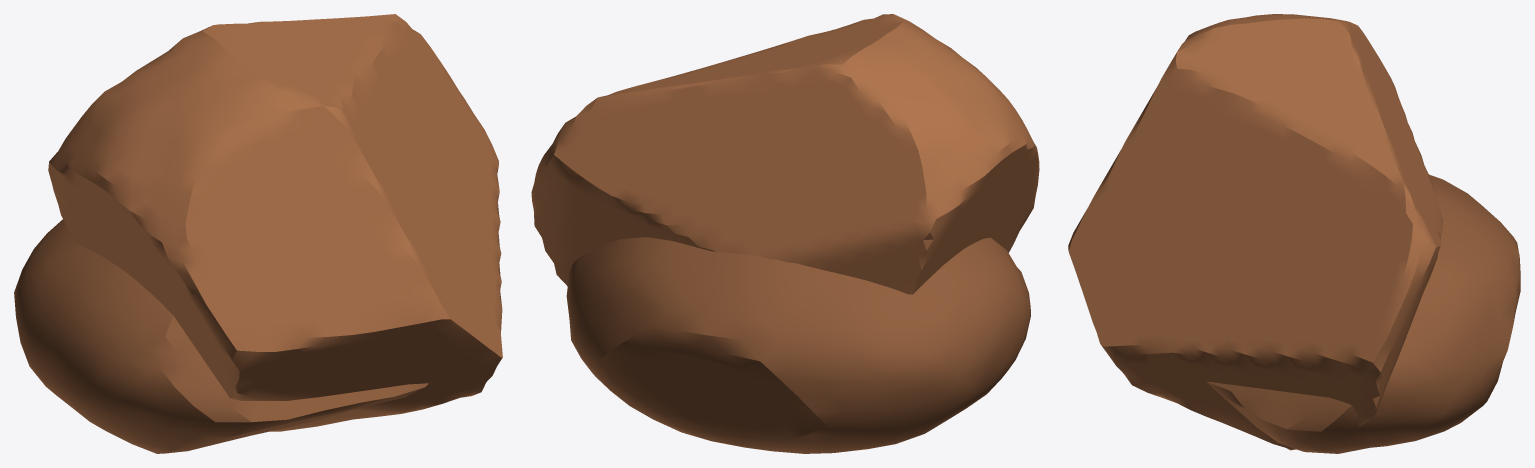
Rendered from Rock.fbx.
3 views of the same model, side by side, from view 1: azimuth 30°, elevation 25°; view 2: azimuth 150°, elevation 25°; view 3: azimuth 270°, elevation 25° (orthographic). The views are drawn at different scales.
Visible parts, largest first — view 1: Rock_Body, Rock_Shade; view 2: Rock_Body, Rock_Shade; view 3: Rock_Body, Rock_Shade.
Part boxes in pixels (bbox=[...]): Rock_Body: bbox=[48, 14, 502, 431]; Rock_Shade: bbox=[14, 219, 428, 453]; Rock_Body: bbox=[531, 14, 1039, 294]; Rock_Shade: bbox=[566, 237, 1030, 453]; Rock_Body: bbox=[1068, 14, 1443, 450]; Rock_Shade: bbox=[1207, 174, 1520, 453].
Bounding box in the file's own units: 202 × 163 × 182.
